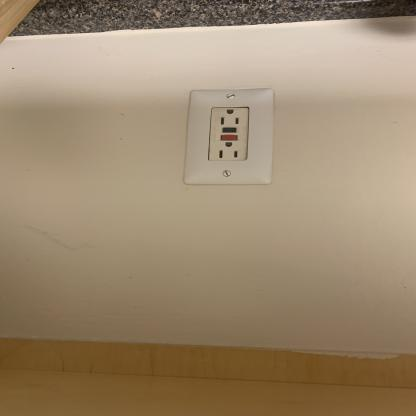OUTLET: (184, 88, 274, 186)
